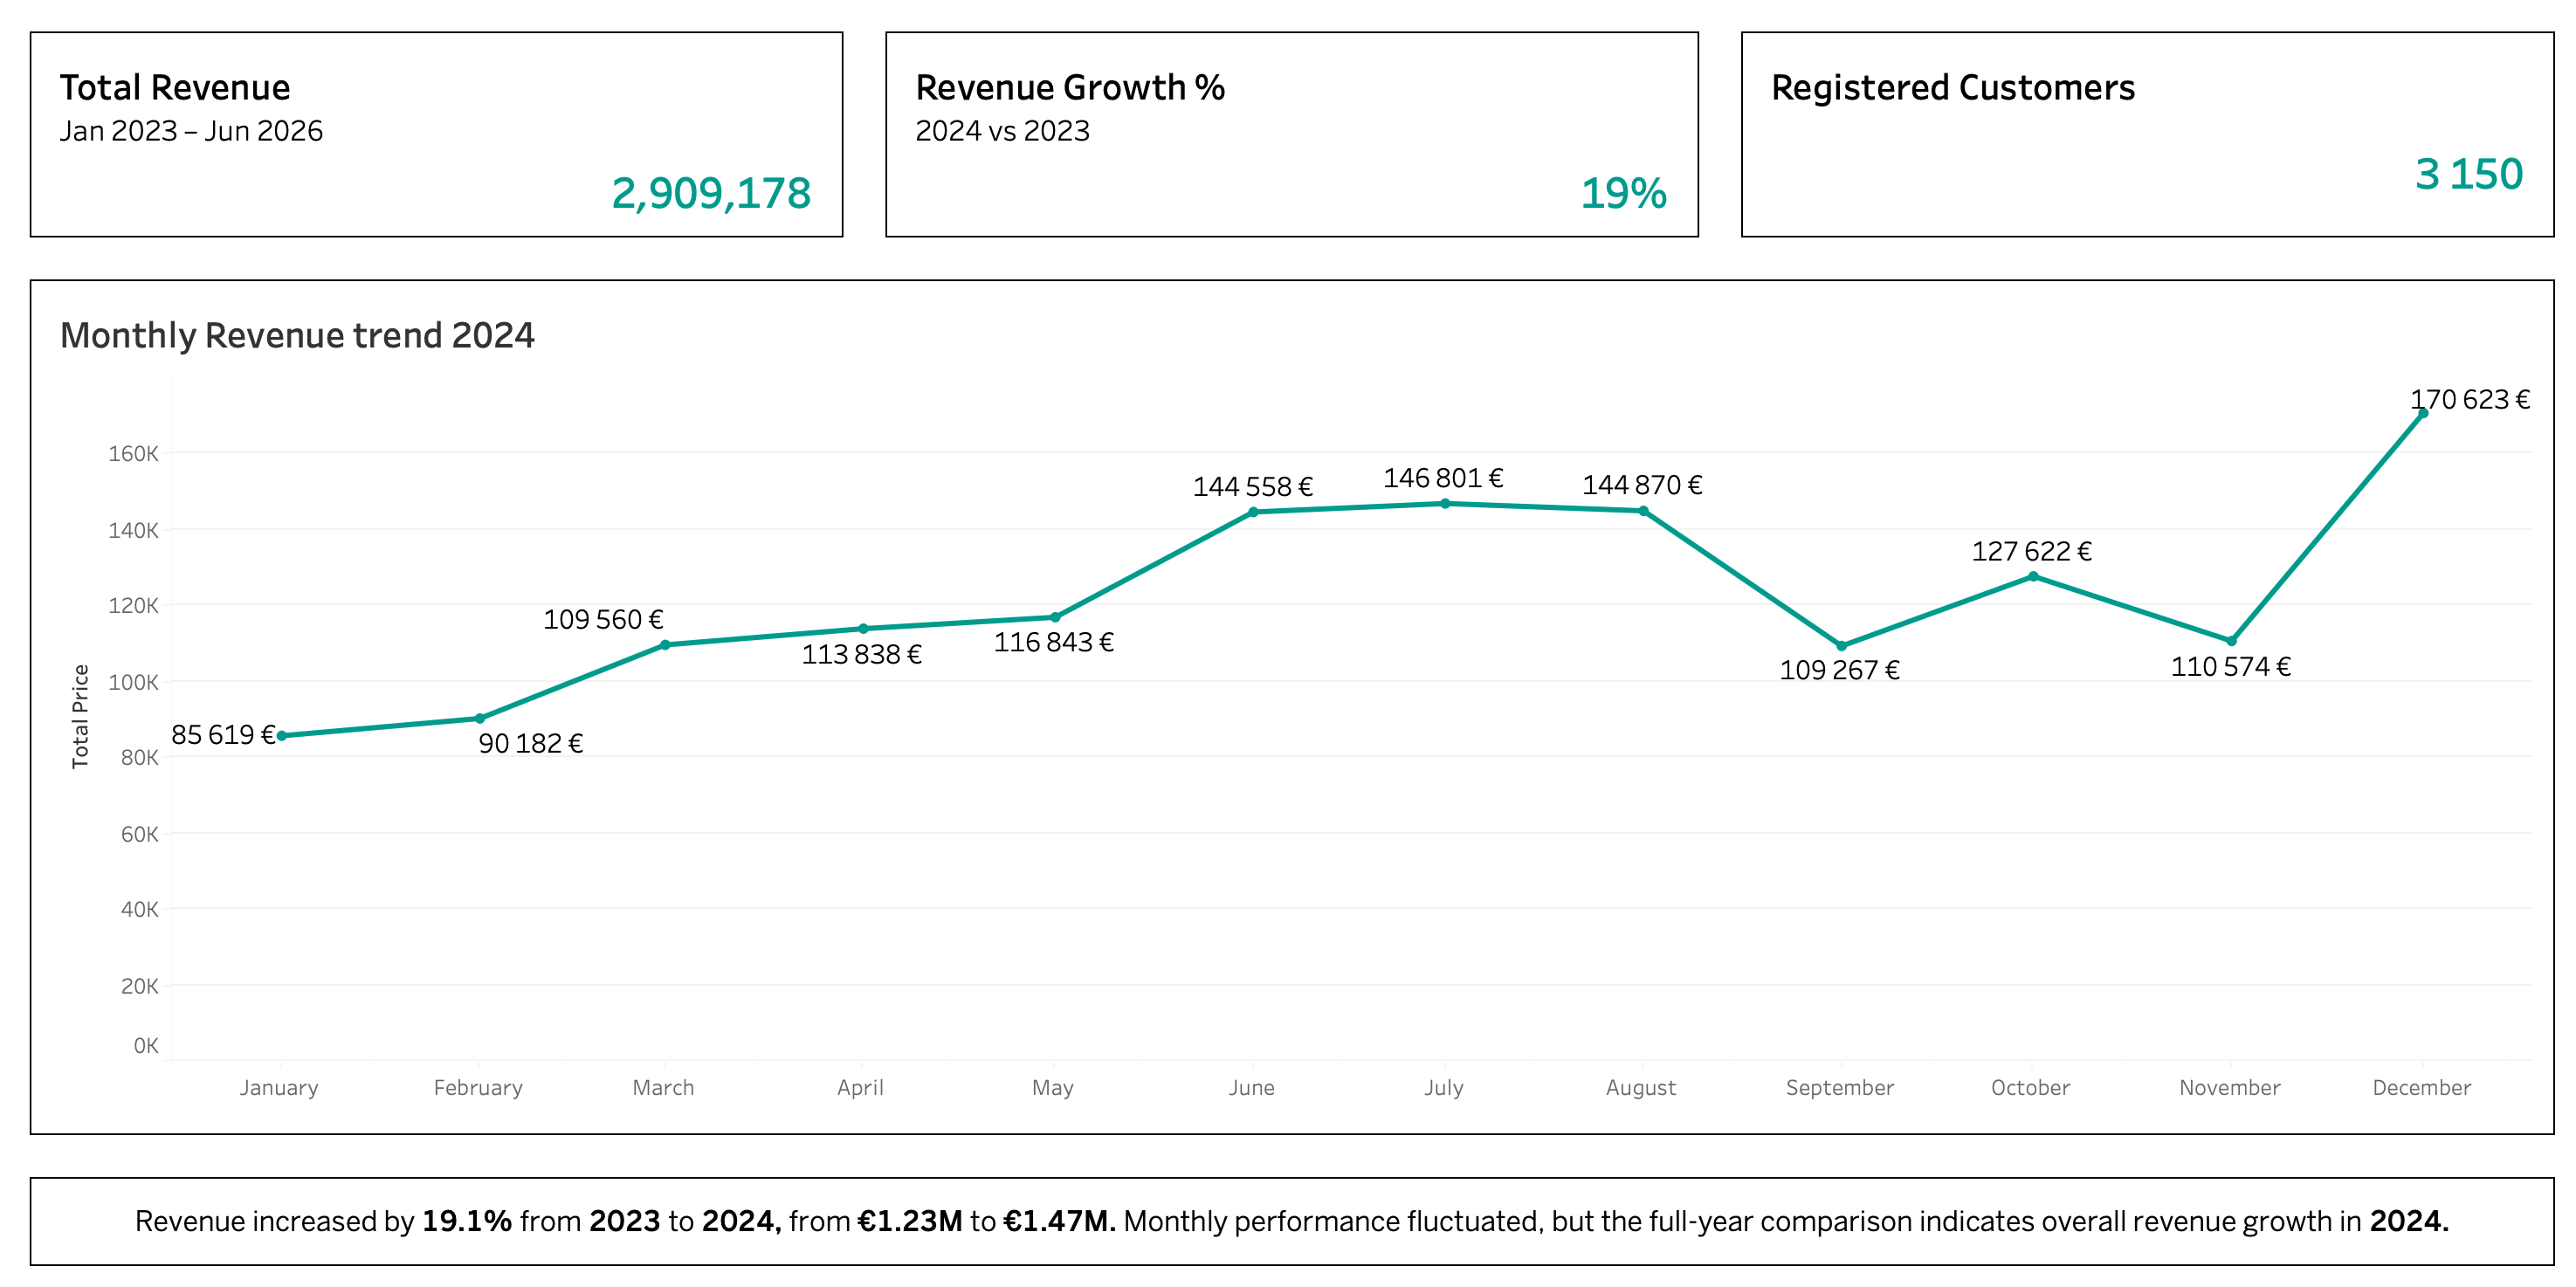

Layout of this report page (visuals, bound fields, positions):
{"tool":"tableau","page":{"name":"Dashboard 1","canvas":[1000,1000],"units":"permille","ordinal":0},"visuals":[{"type":"worksheet","title":"Sheet 2","mark":"Automatic","box":[3.2,6.7,331.5,191.5]},{"type":"worksheet","title":"Sheet 5","mark":"Automatic","box":[334.7,6.7,331.1,191.5]},{"type":"worksheet","title":"Sheet 3","mark":"Automatic","box":[665.8,6.7,331.1,191.5]},{"type":"worksheet","title":"Sheet 1","mark":"Automatic","rows":["total_price"],"cols":["sale_date"],"box":[3.2,198.1,993.7,693.6]},{"type":"text","box":[3.2,891.7,993.7,101.6]}]}

Visuals, with their boxes on the dashboard's canvas, which has no fixed pixel size, in thousandths of its width and height (x1, y1, x2, y2). These are canvas units, not pixel positions in the 2576x1287 screenshot, which may show the page scaled, cropped or inside an application window:
"Sheet 2" worksheet: box=[3, 7, 335, 198]
"Sheet 5" worksheet: box=[335, 7, 666, 198]
"Sheet 3" worksheet: box=[666, 7, 997, 198]
"Sheet 1" worksheet: box=[3, 198, 997, 892]
text: box=[3, 892, 997, 993]
